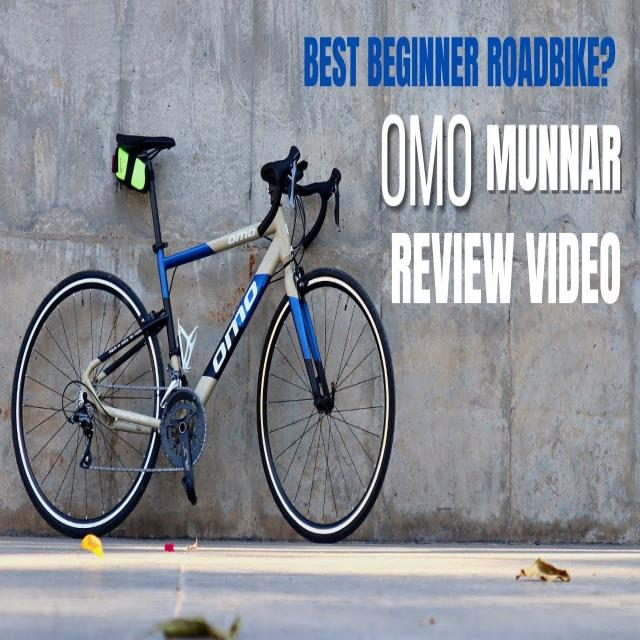bicycle: (11, 133, 394, 541)
